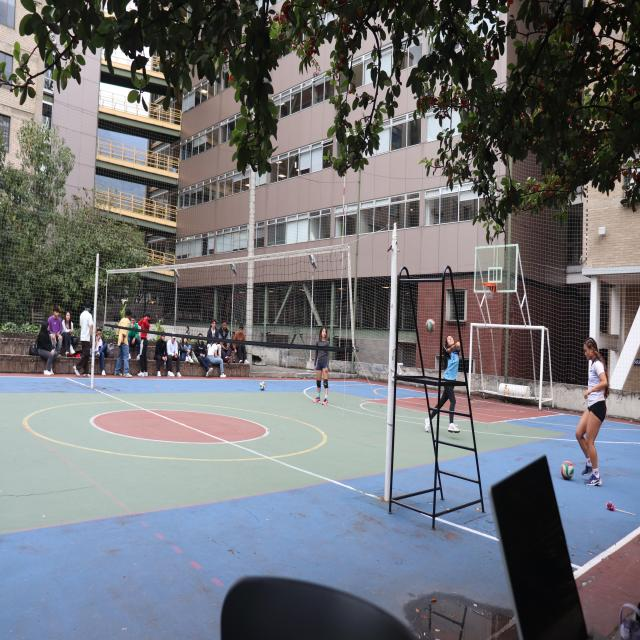volleyball: (561, 460, 573, 480), (426, 319, 435, 332), (259, 382, 265, 391)
